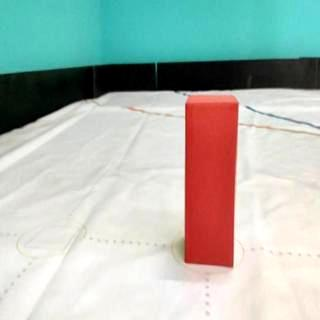redbox: (185, 95, 235, 266)
